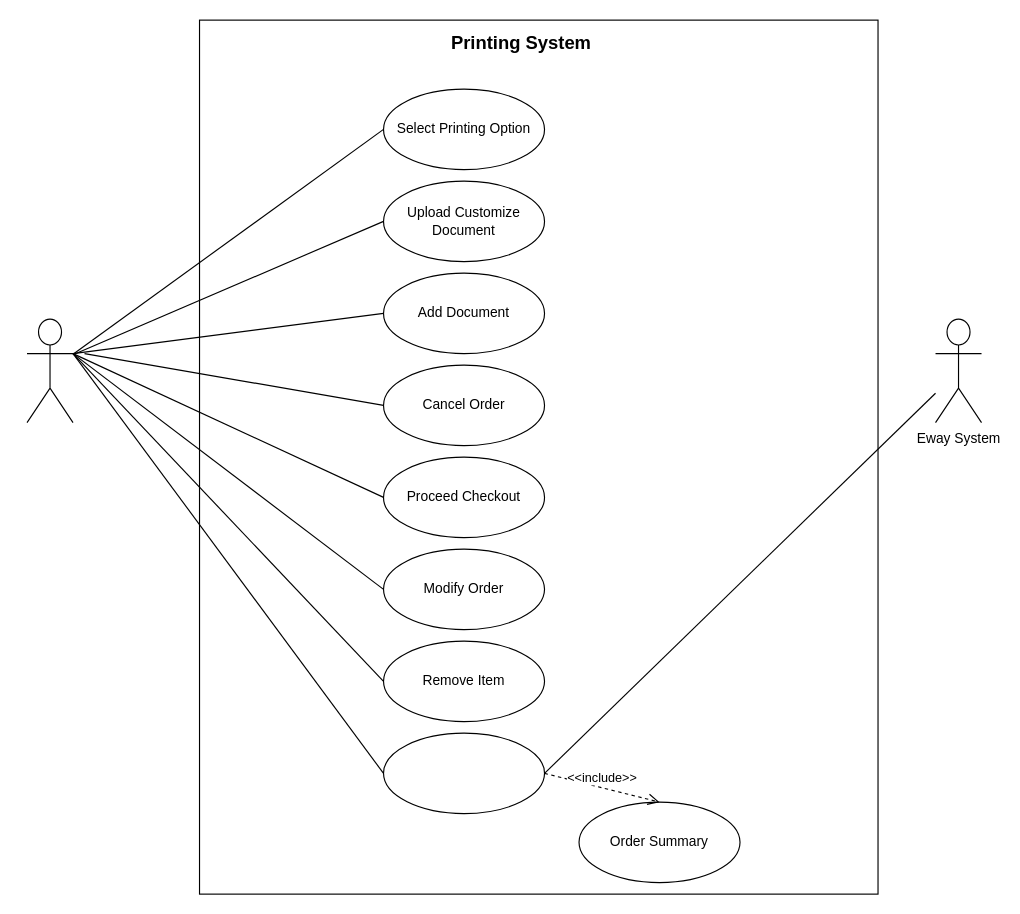
This 1020x914 diagram has some shape labels left out. Each missing label, with the box of its shape:
Customer: (26, 318, 73, 423)
Make Payment: (382, 732, 545, 814)
